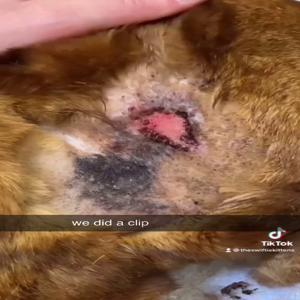skin_lesions: (129, 102, 197, 153)
